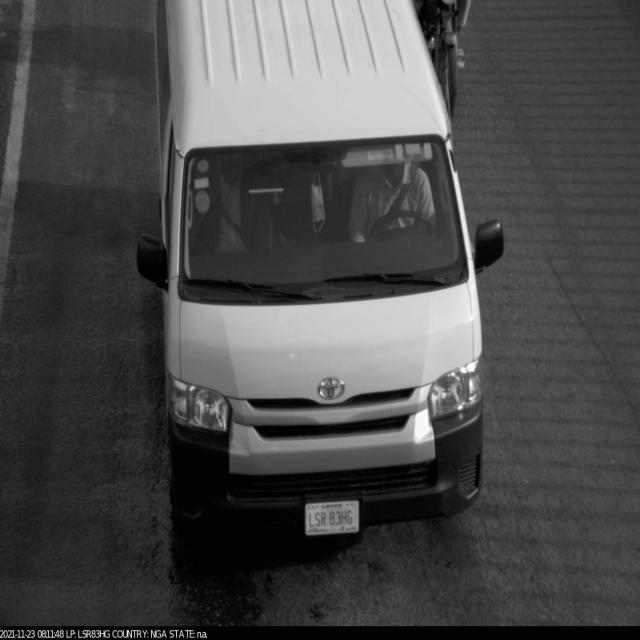windshield: (173, 130, 473, 312)
